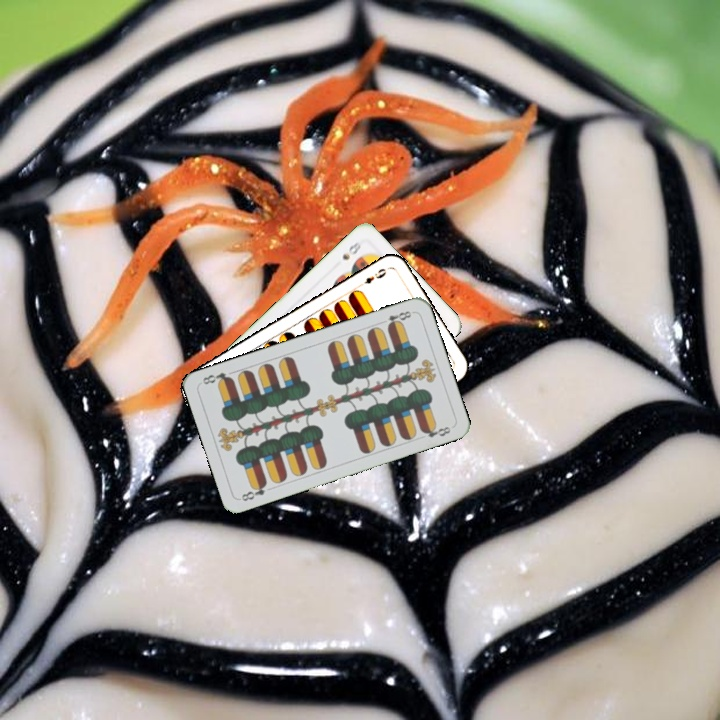E8: (376, 307, 416, 330), (237, 478, 270, 504)
E9: (355, 264, 389, 290)
S8: (338, 238, 363, 263)
